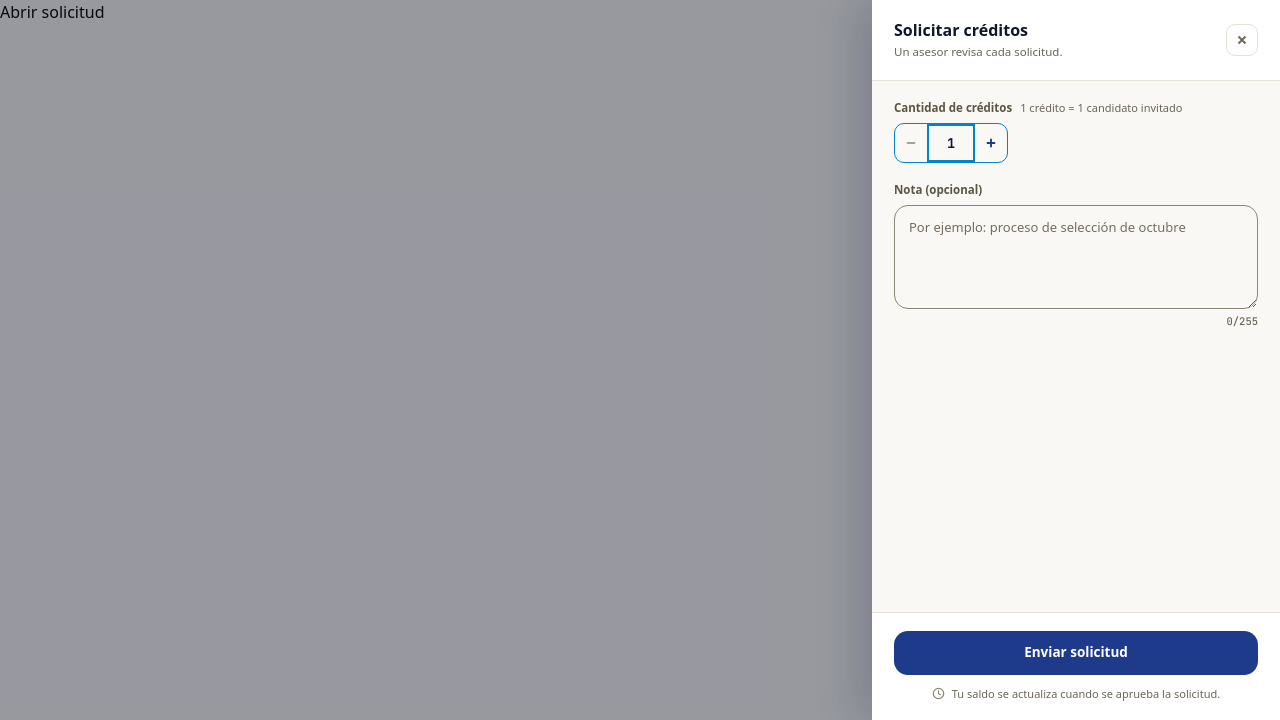
Scenario: SolicitarCreditos · errores › un error de red se muestra en un Callout y se puede volver a enviar
Click the button "Enviar solicitud".
click(1076, 652)  # box top-left (894, 630), bottom-right (1258, 674)
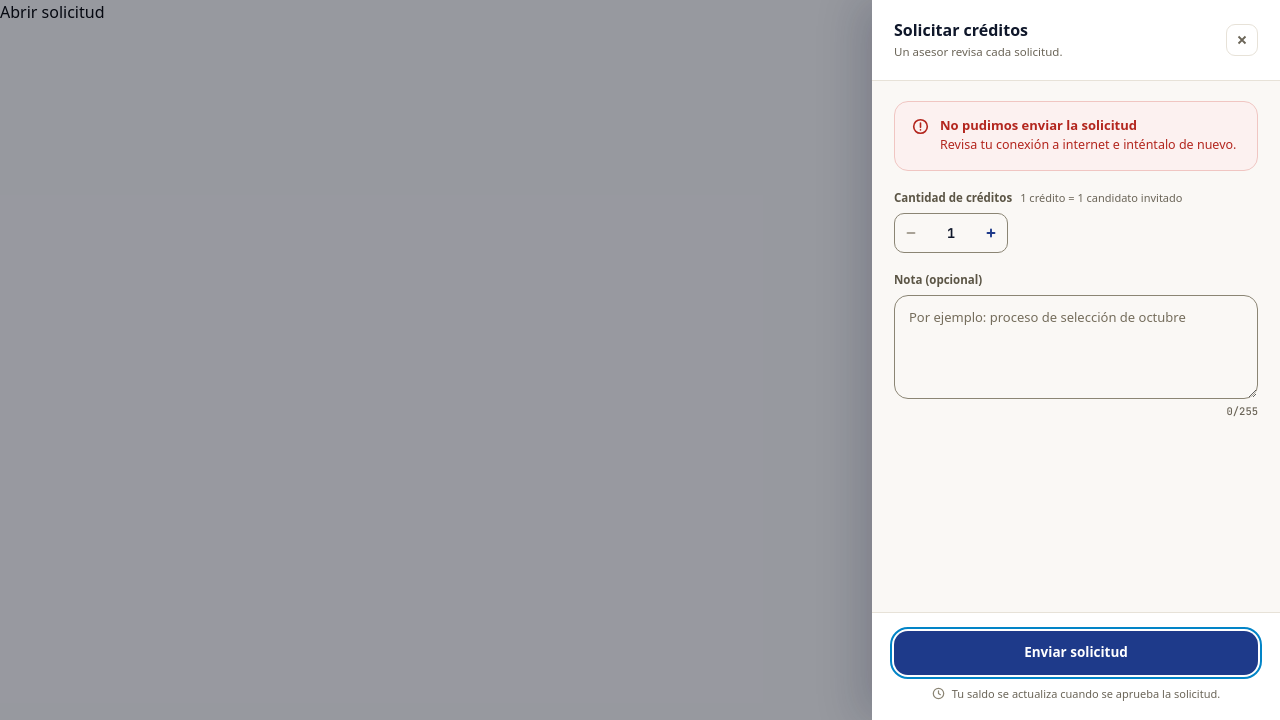
Expected: the text "Solicitud de créditos enviada" is not shown
Now the message shows "No pudimos enviar la solicitud", box top-left (940, 116), bottom-right (1137, 134)
Now the message shows "Revisa tu conexión a internet e inténtalo de nuevo.", box top-left (940, 136), bottom-right (1236, 153)
Click the button "Enviar solicitud".
click(1076, 652)  # box top-left (894, 630), bottom-right (1258, 674)
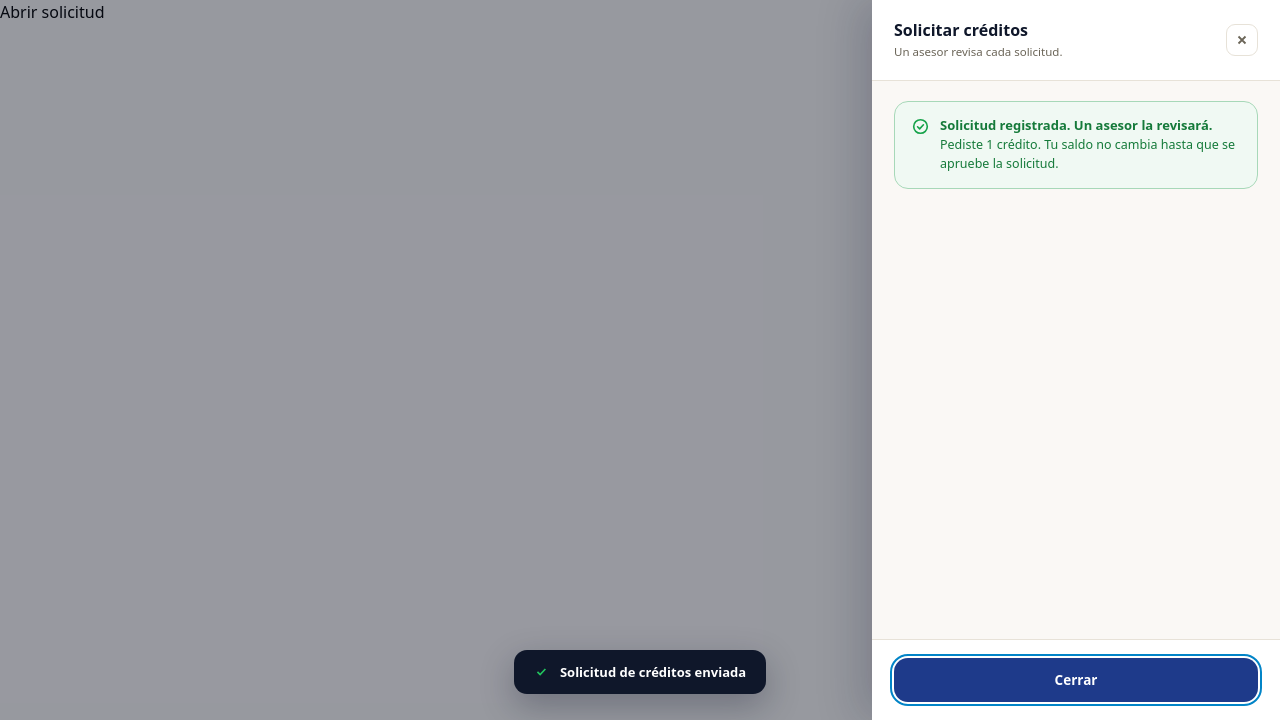
Now the text "Solicitud registrada. Un asesor la revisará." is shown 2 times
Now the text "No pudimos enviar la solicitud" is gone
